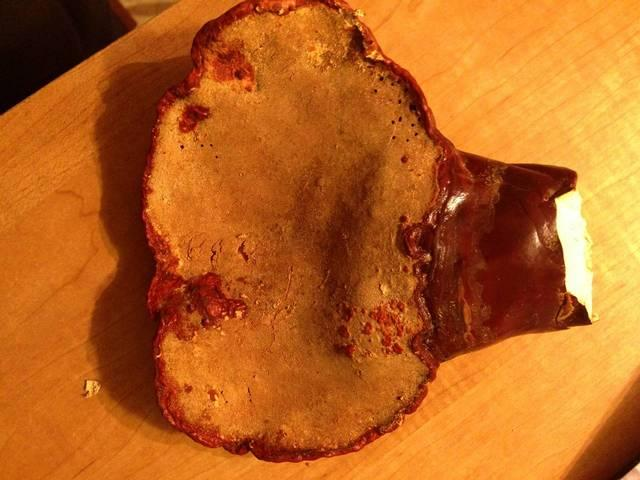poisonous_mushroom: (139, 0, 596, 463)
